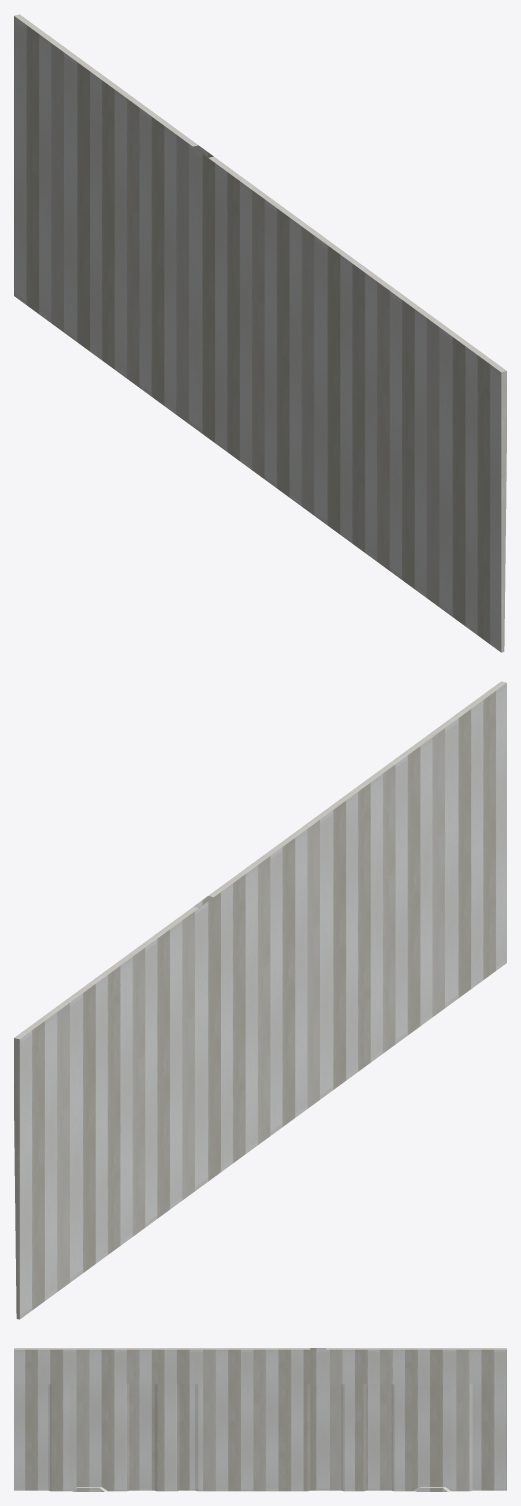
File: PartyRoomFrameWall.fbx
The picture shows the model from 3 angles, top to bottom: view 1: azimuth 30°, elevation 25°; view 2: azimuth 150°, elevation 25°; view 3: azimuth 270°, elevation 25°; orthographic projection. The views are drawn at different scales.
Parts seen in each view (by area): view 1: FrameWall; view 2: FrameWall; view 3: FrameWall.
Part boxes in pixels (x1,y1,x2,y2): FrameWall: (14,14,506,652); FrameWall: (14,681,506,1319); FrameWall: (14,1348,506,1491).
Size of the model in its own units: 31.77 by 1130 by 3560.
